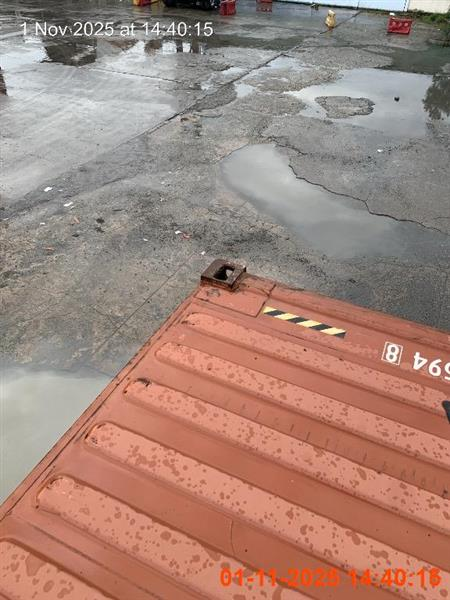crack: (0, 257, 448, 599), (131, 0, 160, 6)
